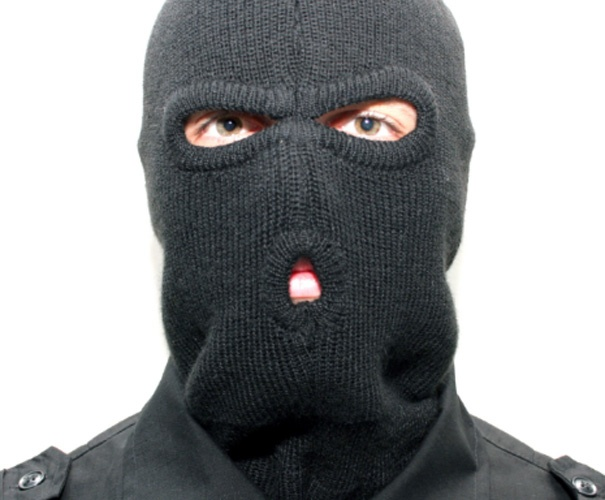robbery mask: (139, 1, 476, 423)
